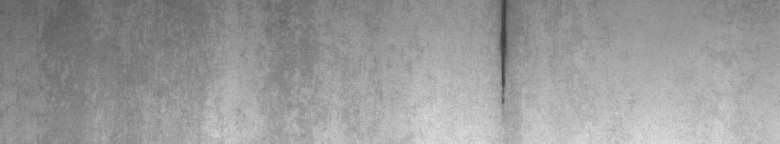hd: (492, 4, 512, 114)
